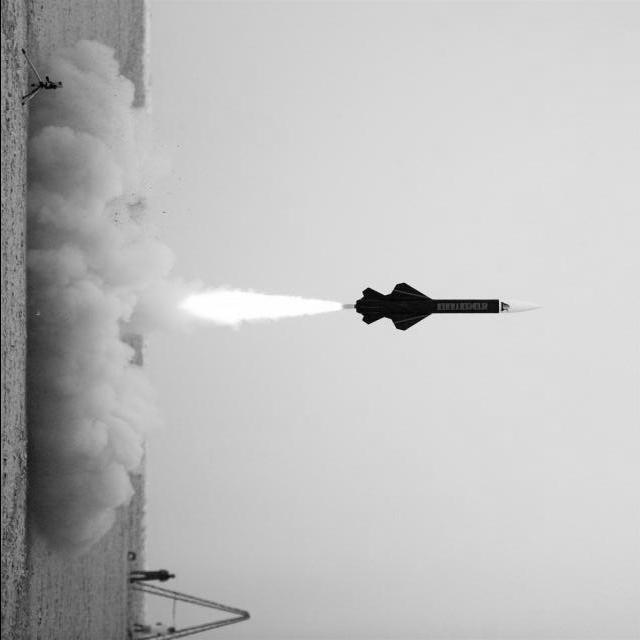missile: (326, 278, 562, 334), (430, 293, 549, 323)
